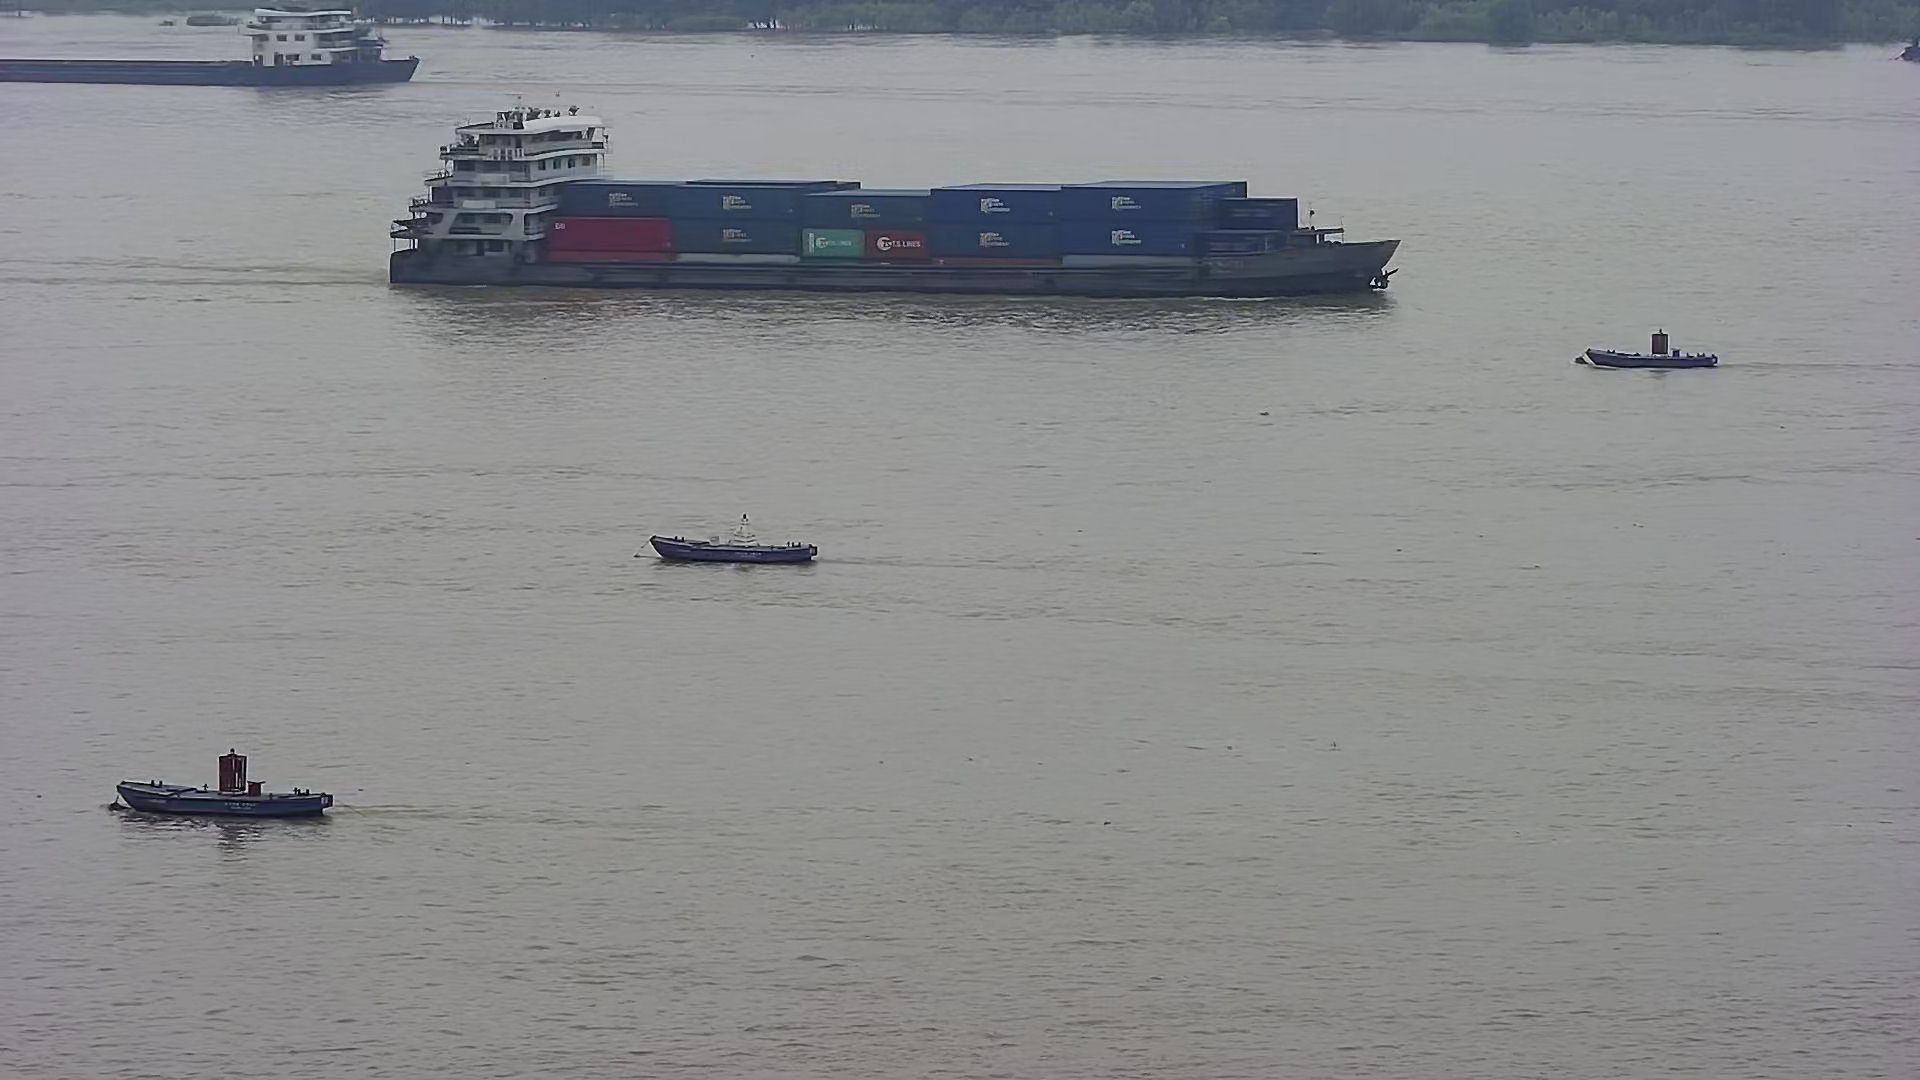boat: (116, 760, 332, 815), (646, 526, 816, 567), (1577, 330, 1720, 369)
ship: (386, 109, 1404, 294), (1, 11, 419, 88)
